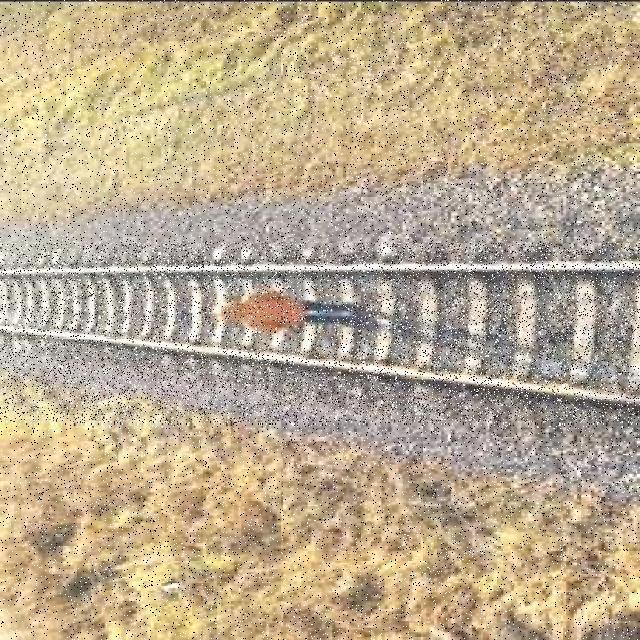rail: (1, 244, 640, 425)
